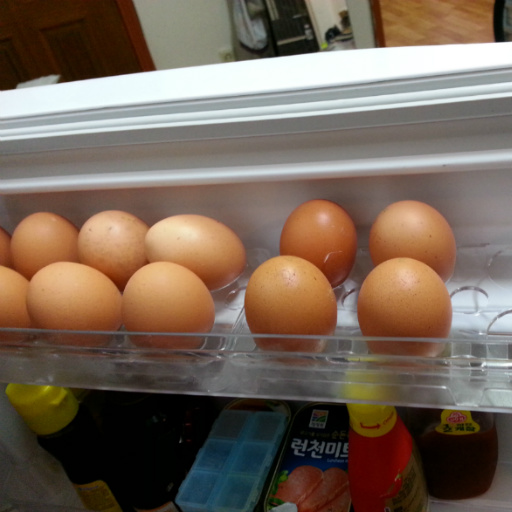egg: (4, 201, 457, 361)
